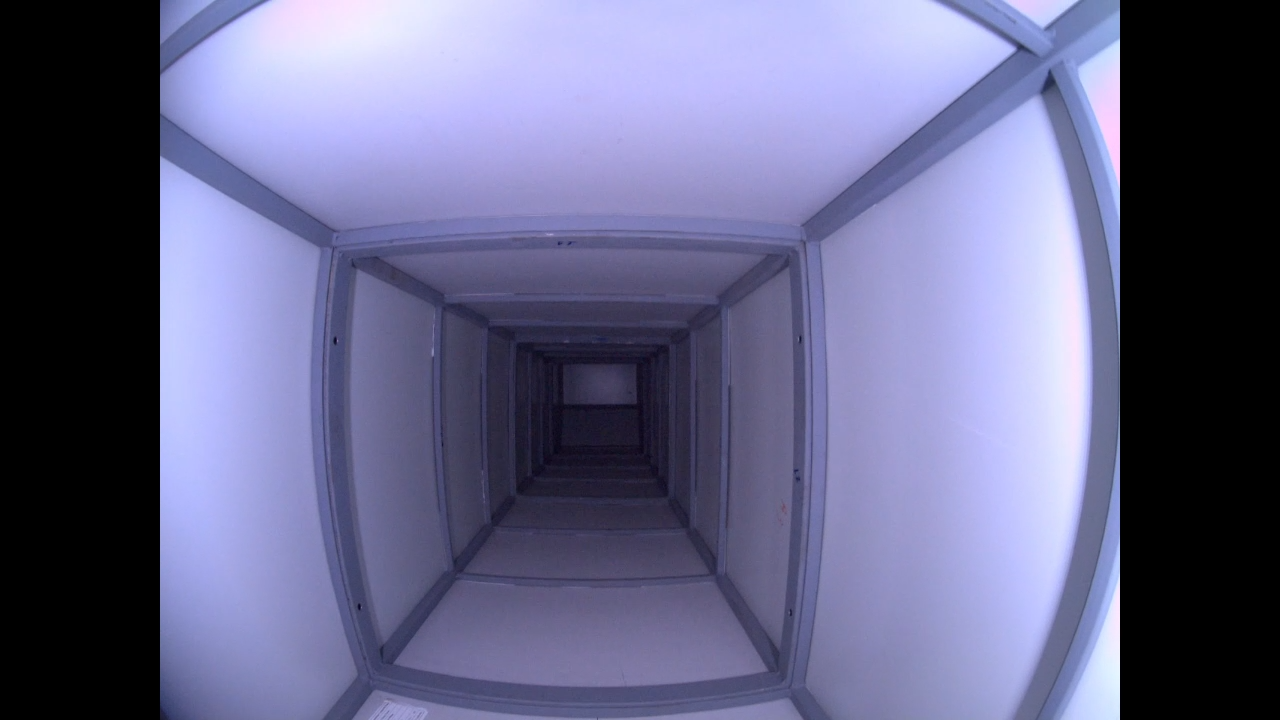divider: (304, 206, 835, 719)
